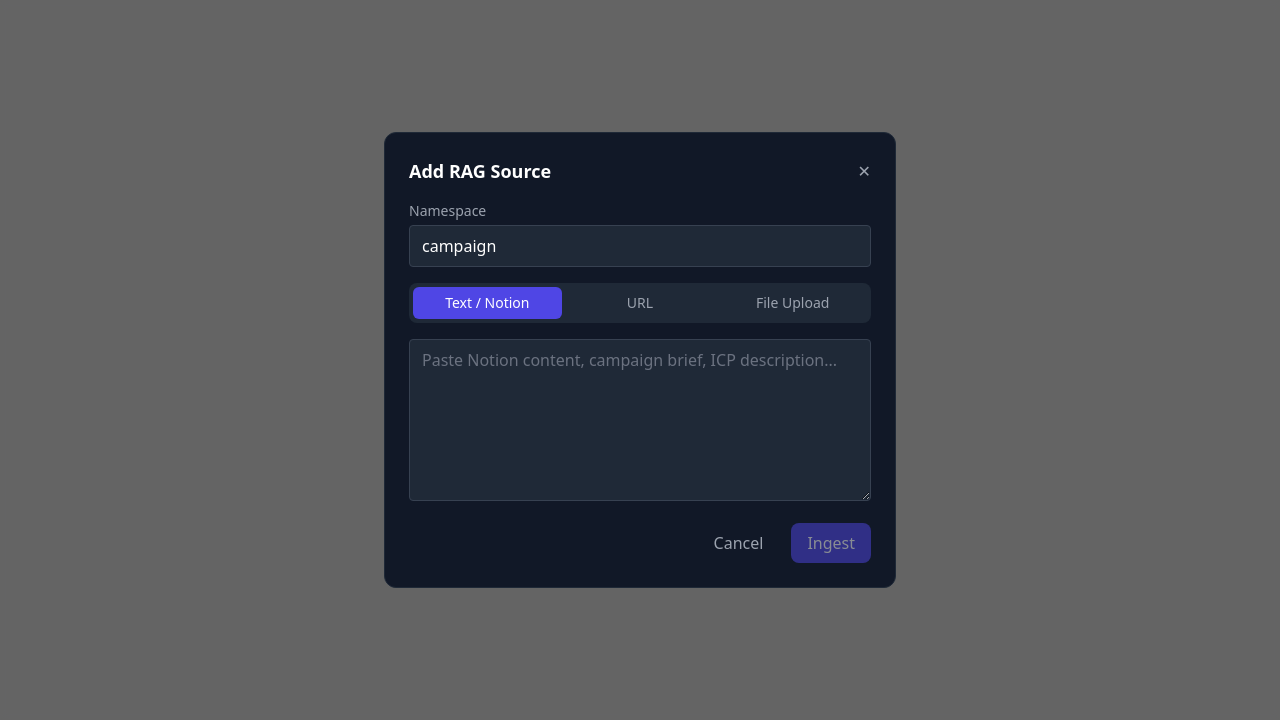
Test: RS2: Tab switching › shows file input after clicking File Upload tab
The width and height of the screenshot is (1280, 720).
Click the button "File Upload": coordinates (793, 303) [718, 287, 867, 319]
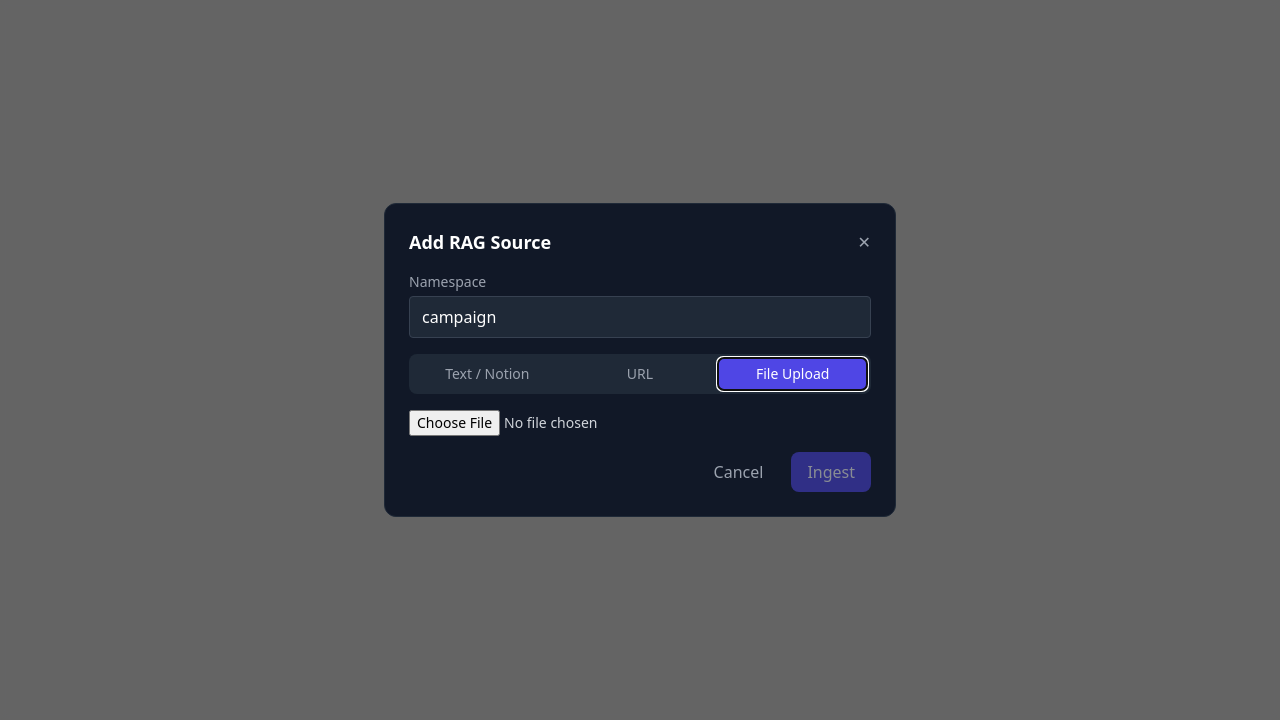
Check: the file field named "file" is shown, box [409, 410, 871, 436]
Check: the text box labelled "content" is gone
